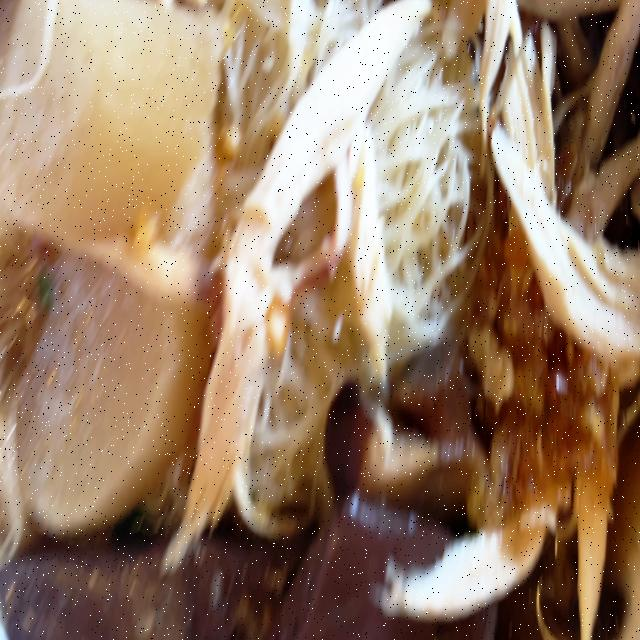boiled_chicken_blood_jelly: (0, 553, 365, 640)
chicken_shredded: (190, 0, 420, 529), (480, 0, 640, 361), (379, 502, 554, 618), (332, 91, 388, 385), (581, 347, 614, 639)
daikon_radish: (0, 251, 220, 508), (0, 0, 220, 222)
noodle: (0, 0, 640, 638)
